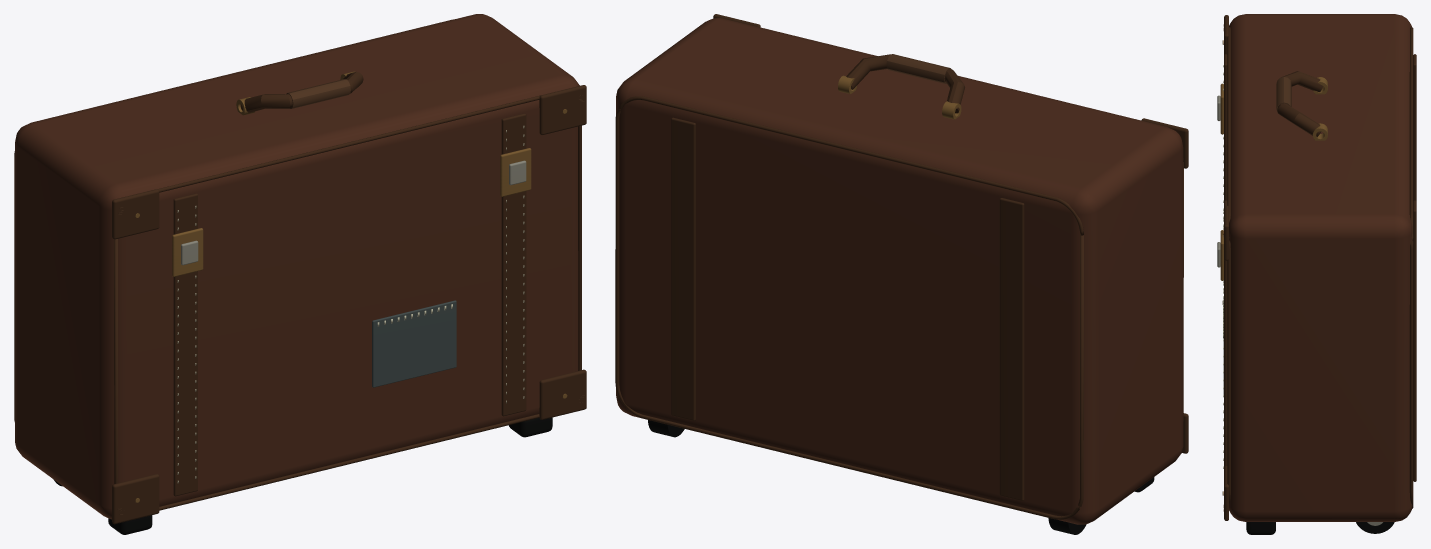
The model's file is D04_SuitcaseRepair.fbx.
3 renders of one model, left to right at view 1: azimuth 30°, elevation 25°; view 2: azimuth 150°, elevation 25°; view 3: azimuth 270°, elevation 25°, orthographic. The views are drawn at different scales.
Visible parts, largest first — view 1: CaseShell_Mesh, HandlePivot_Mesh, LatchLeft_Mesh, LatchRight_Mesh; view 2: CaseShell_Mesh, HandlePivot_Mesh; view 3: CaseShell_Mesh, HandlePivot_Mesh, WheelLeft_Mesh, LatchRight_Mesh, LatchLeft_Mesh.
Part boxes in pixels (x1,y1,x2,y2): CaseShell_Mesh: (14, 14, 586, 534); HandlePivot_Mesh: (240, 71, 363, 112); LatchLeft_Mesh: (500, 148, 531, 196); LatchRight_Mesh: (172, 228, 203, 276); CaseShell_Mesh: (615, 14, 1188, 524); HandlePivot_Mesh: (846, 54, 964, 113); CaseShell_Mesh: (1222, 14, 1416, 534); HandlePivot_Mesh: (1276, 71, 1323, 137); WheelLeft_Mesh: (1356, 522, 1394, 533); LatchRight_Mesh: (1217, 83, 1223, 134); LatchLeft_Mesh: (1217, 230, 1223, 280).
Size of the model in its own units: 0.6 by 0.458 by 0.236.
